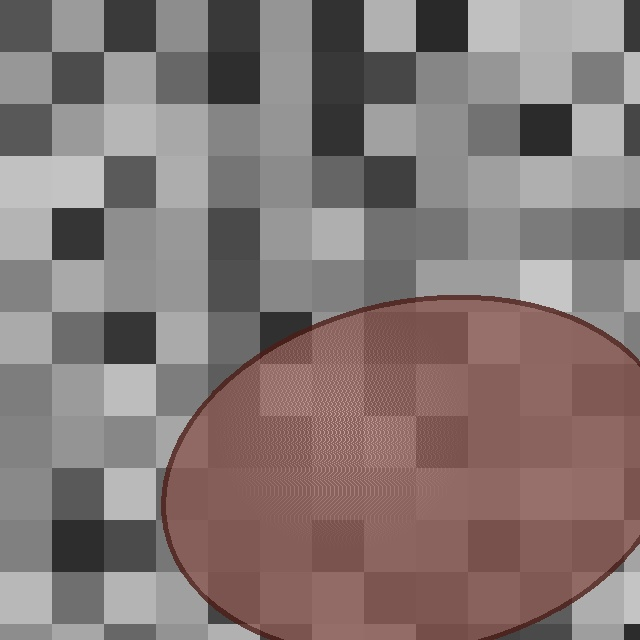lens: (165, 297, 640, 640)
